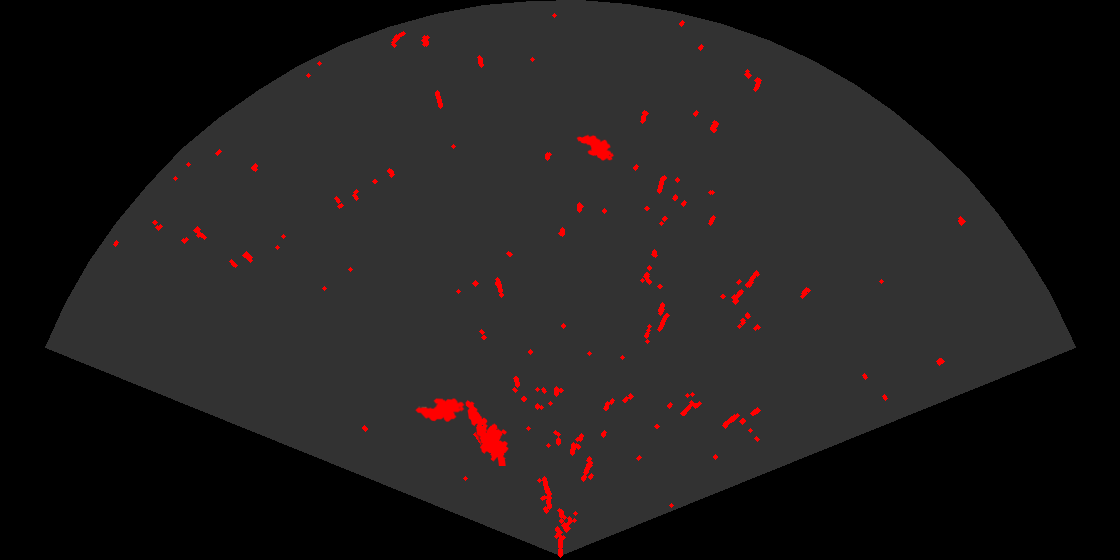AUV: (414, 397, 466, 423), (575, 133, 616, 162)
frogman: (464, 399, 510, 466)
